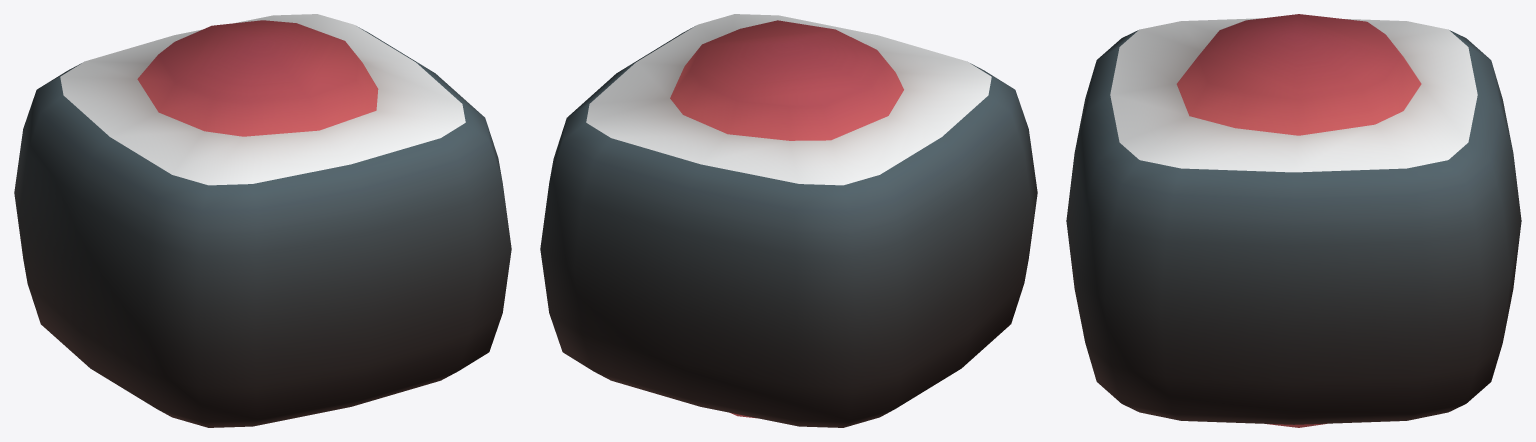
File: roll_003.fbx
The picture shows the model from 3 angles, left to right: view 1: azimuth 30°, elevation 25°; view 2: azimuth 150°, elevation 25°; view 3: azimuth 270°, elevation 25°; orthographic projection. The views are drawn at different scales.
Visible parts, largest first — view 1: roll_003; view 2: roll_003; view 3: roll_003.
Boxes of the visible parts, x1,y1,x2,y2 form: roll_003: [14, 14, 511, 427]; roll_003: [540, 14, 1037, 427]; roll_003: [1066, 14, 1521, 427].
Size of the model in its own units: 4.45 by 4.45 by 3.98.
